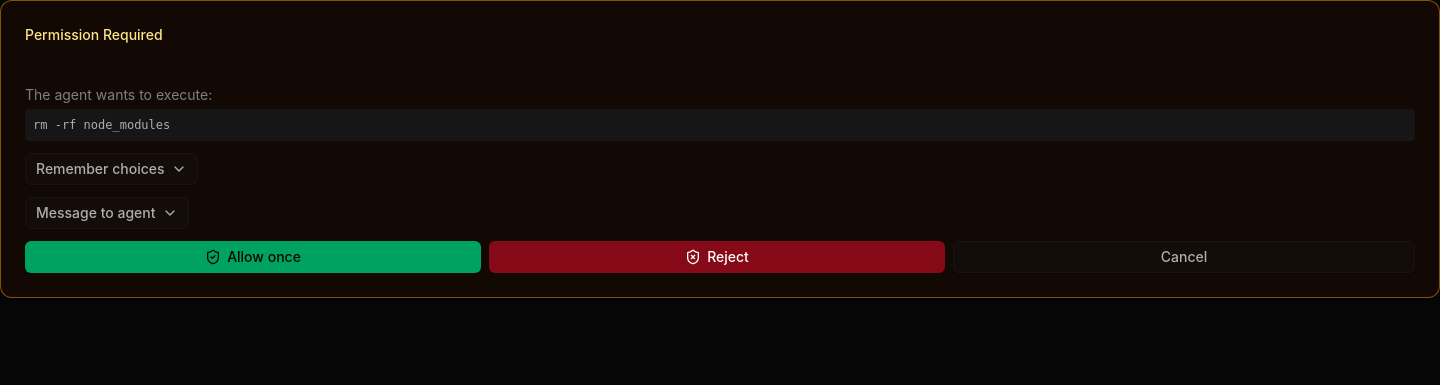
Test case: ActivityApproval › remember choices panel › falls back to segments from the persisted hitl detail
Click the button "Remember choices" at {"x": 111, "y": 169}, box [25, 153, 198, 185]
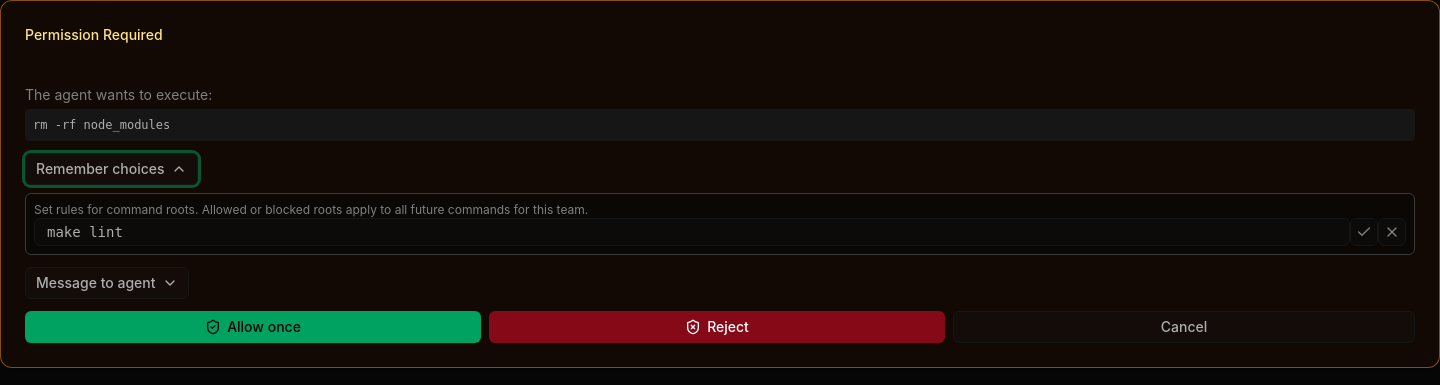
Result: the field named "Command root: make lint" holds "make lint" at [34, 218, 1350, 246]
